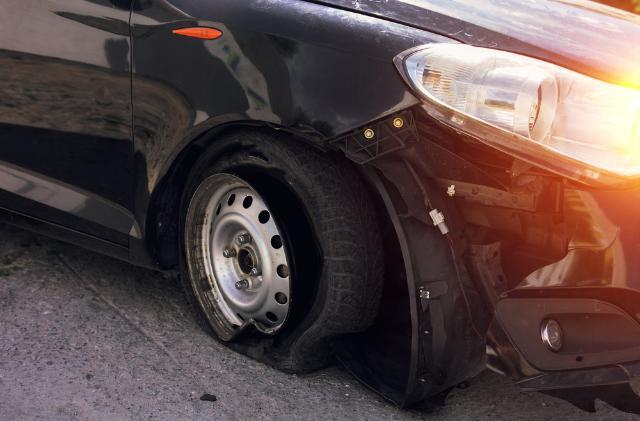no part: (328, 104, 640, 394)
tire flat: (180, 126, 382, 373)
